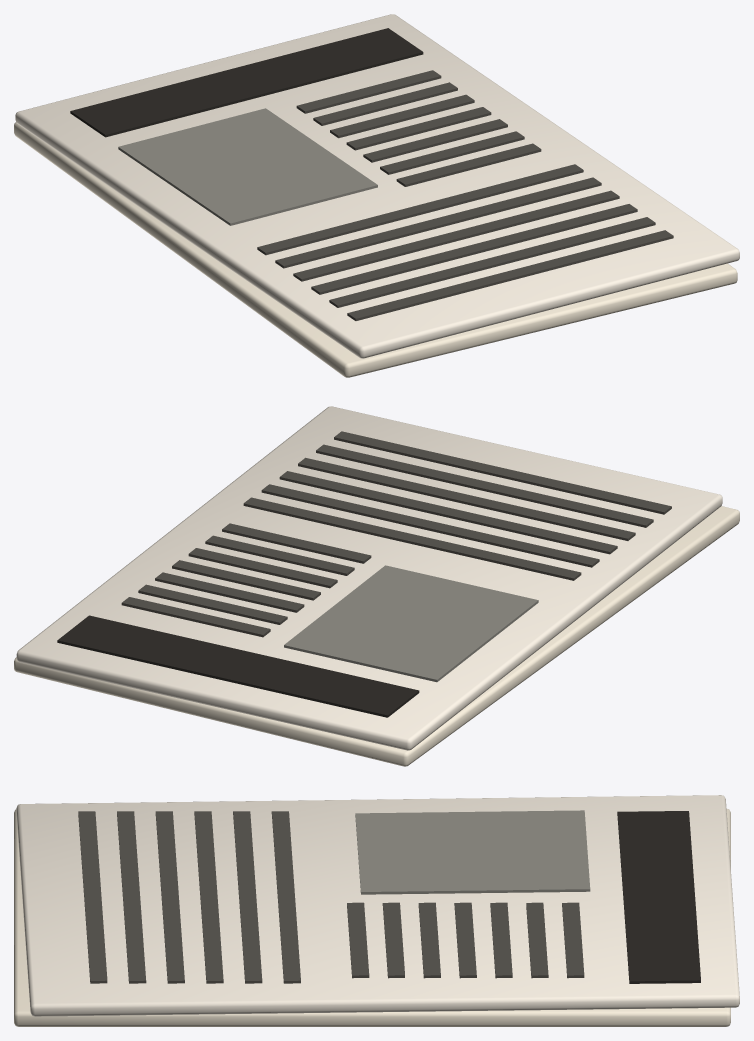
File: newspaper.glb
3 views of the same model, one above another, from view 1: azimuth 30°, elevation 25°; view 2: azimuth 150°, elevation 25°; view 3: azimuth 270°, elevation 25° (orthographic). The views are drawn at different scales.
Parts seen in each view (by area): view 1: newspaper.001; view 2: newspaper.001; view 3: newspaper.001.
Boxes of the visible parts, box(x1,y1,x2,y2) form: newspaper.001: box(14, 14, 739, 377); newspaper.001: box(14, 406, 739, 766); newspaper.001: box(14, 795, 739, 1026).
Size of the model in its own units: 0.3495 by 0.0245 by 0.5063.
